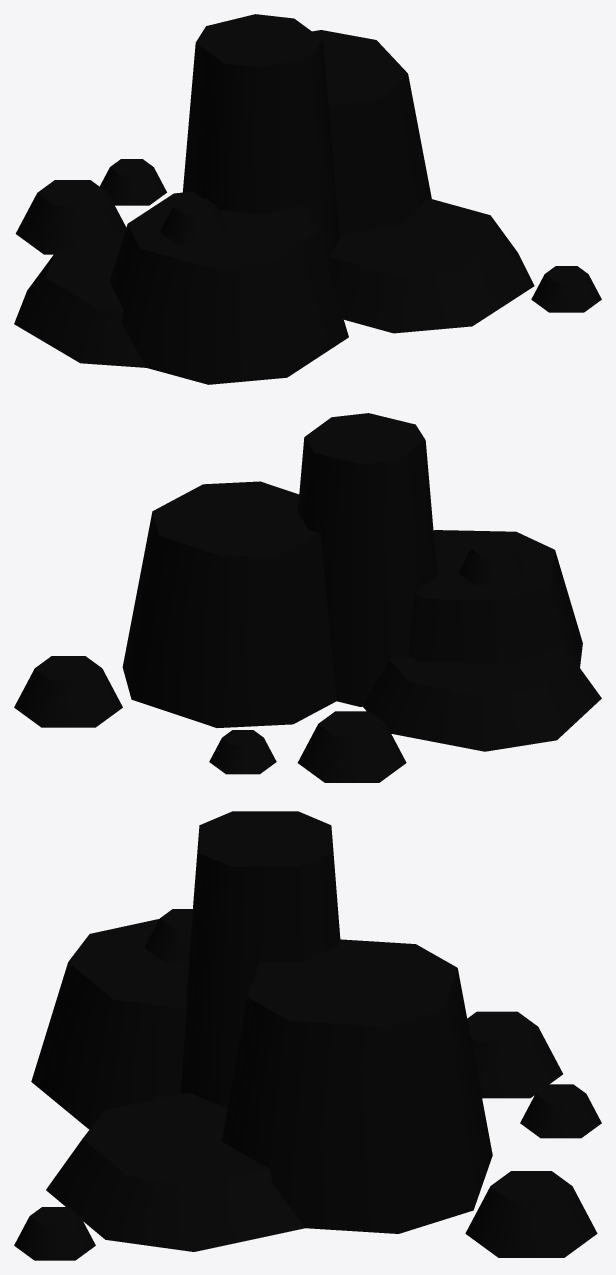
The model's file is stones.glb.
The picture shows the model from 3 angles, top to bottom: view 1: azimuth 30°, elevation 25°; view 2: azimuth 150°, elevation 25°; view 3: azimuth 270°, elevation 25°; orthographic projection. The views are drawn at different scales.
Parts seen in each view (by area): view 1: stones; view 2: stones; view 3: stones.
Boxes of the visible parts, box(x1,y1,x2,y2) form: stones: box(14, 14, 601, 384); stones: box(14, 413, 601, 782); stones: box(14, 811, 601, 1260).
Bounding box in the file's own units: 0.904 × 0.4539 × 0.8521.
1 material, 1 textured.
